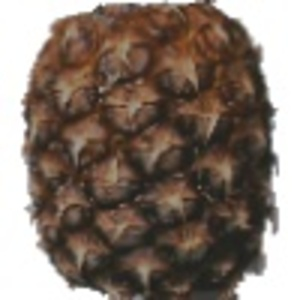abacaxi: (16, 2, 281, 287)
